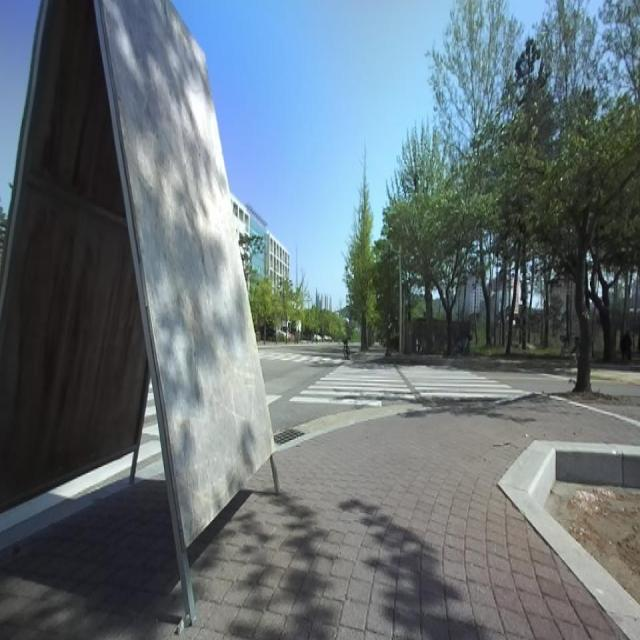sidewalk: (181, 397, 640, 639), (0, 477, 182, 639)
